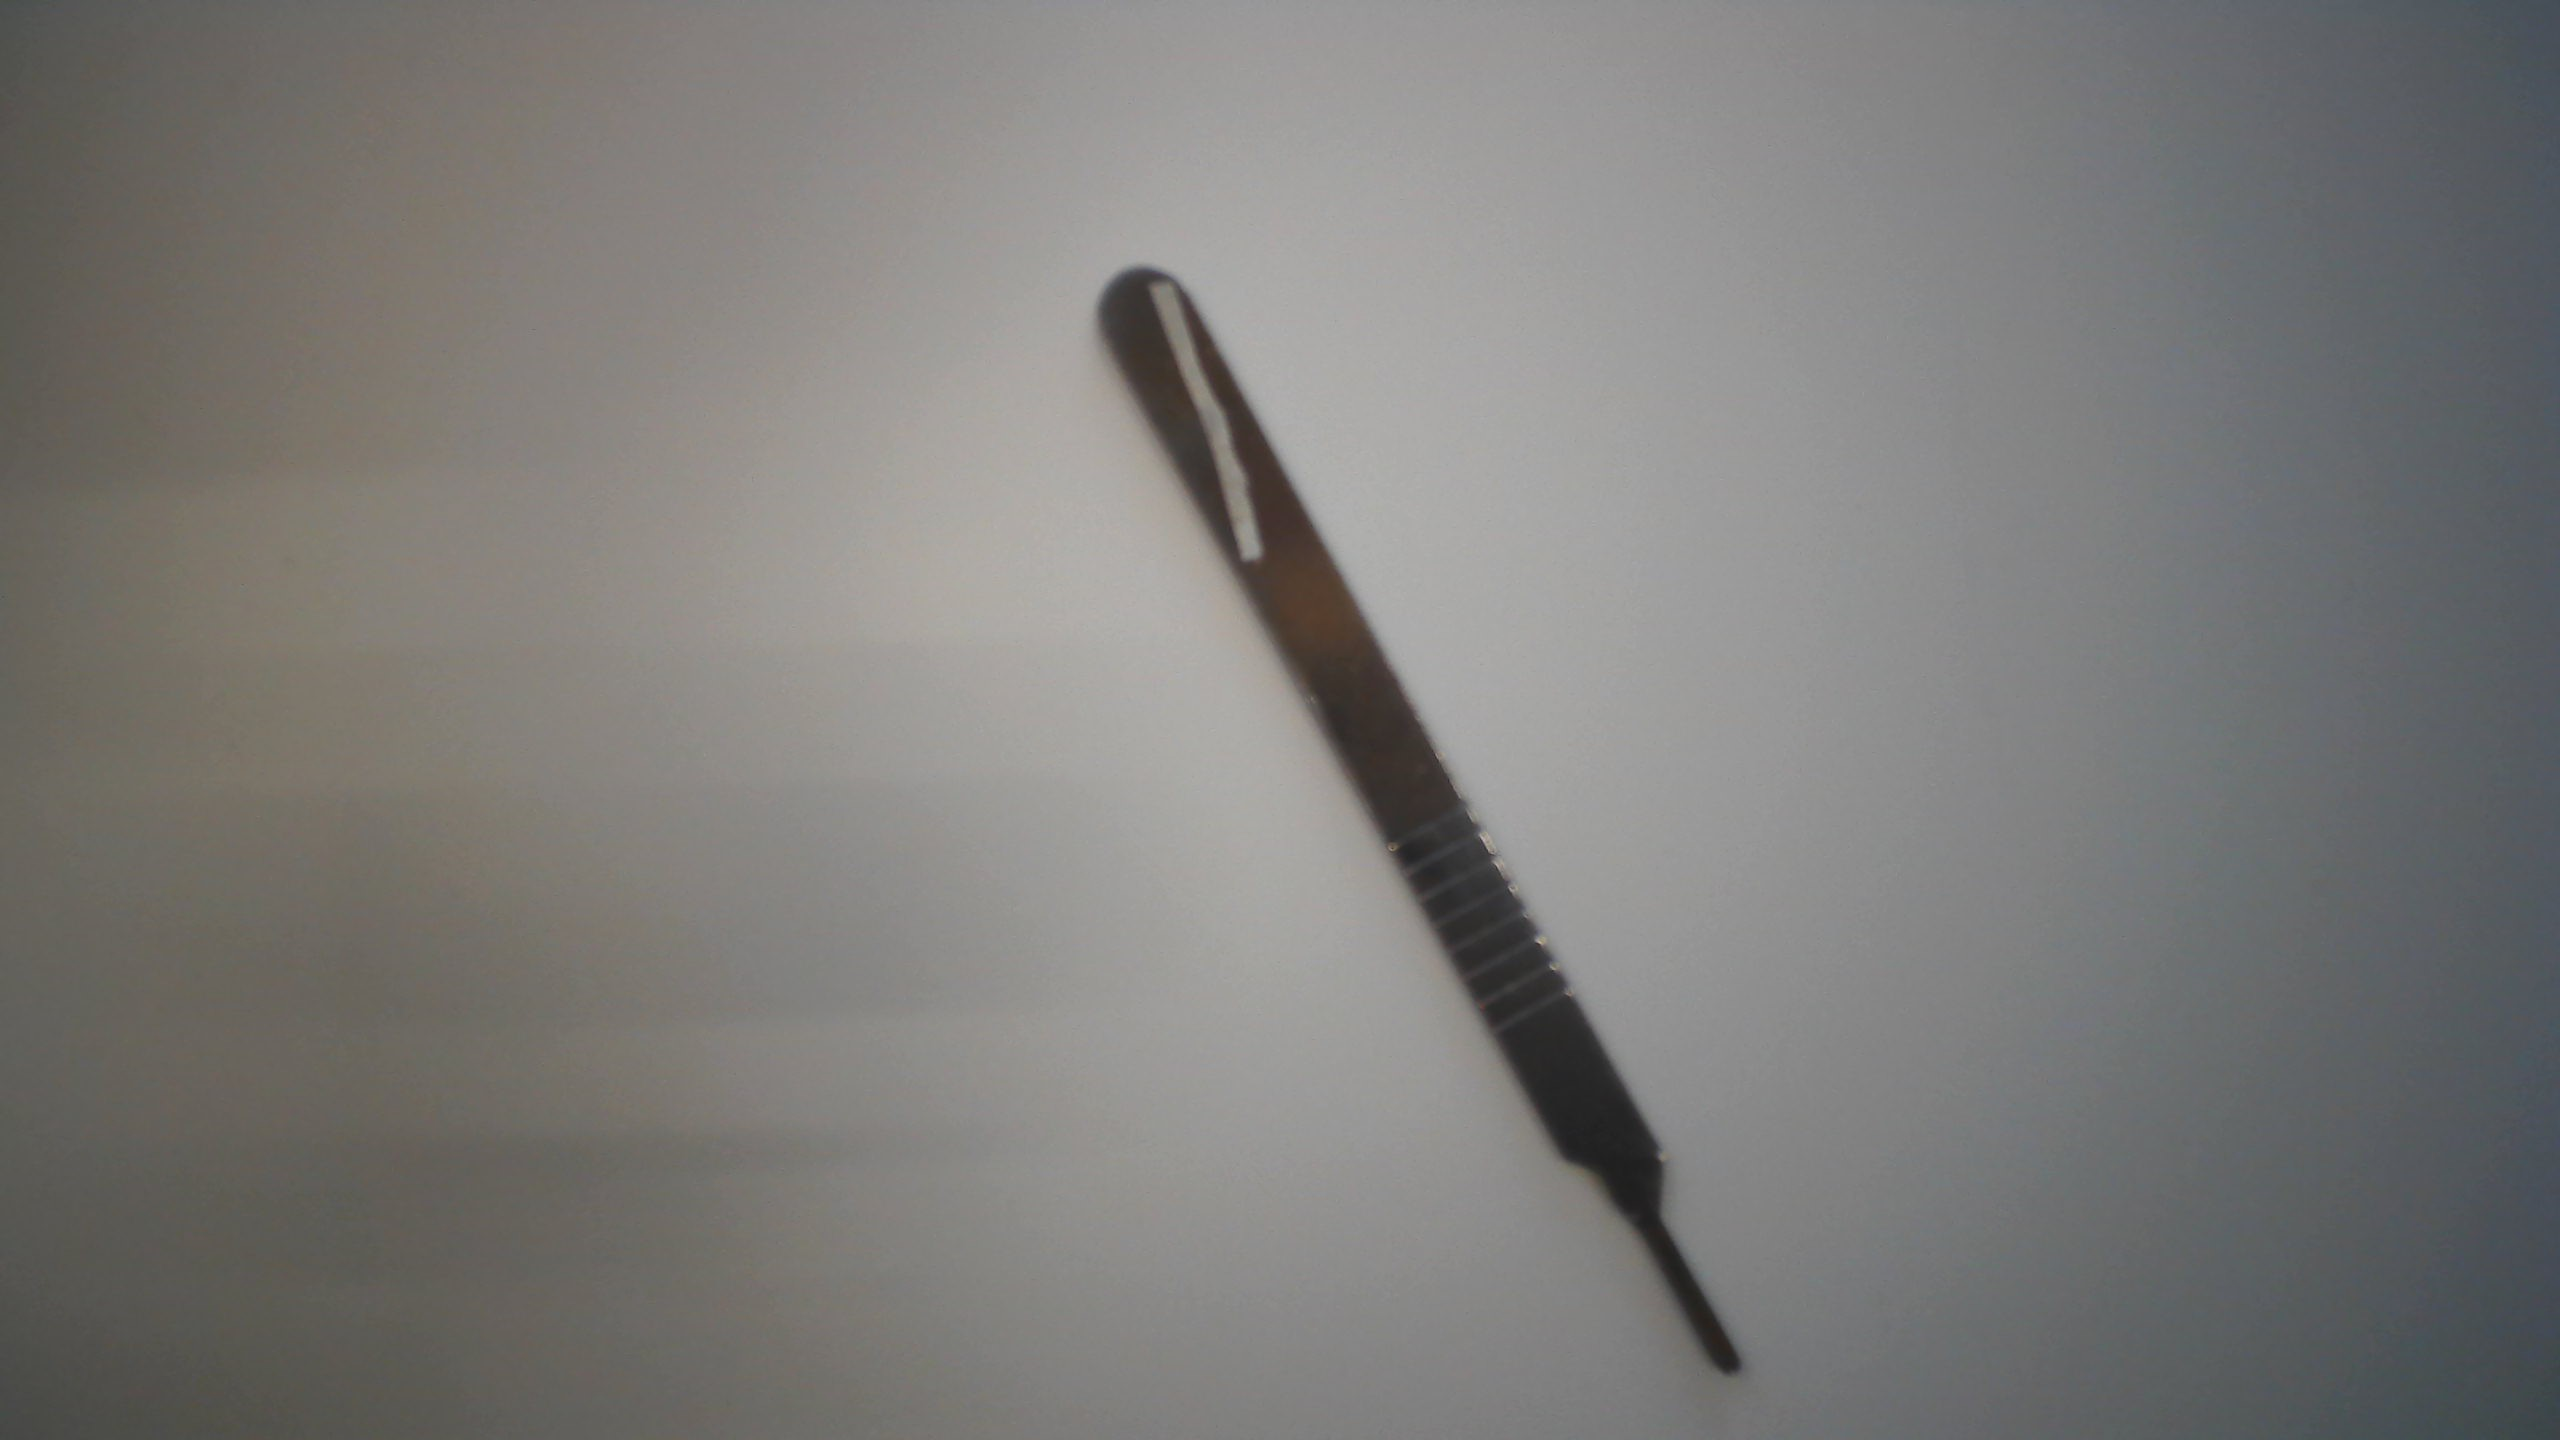Scratches: (1138, 269, 1271, 575)
